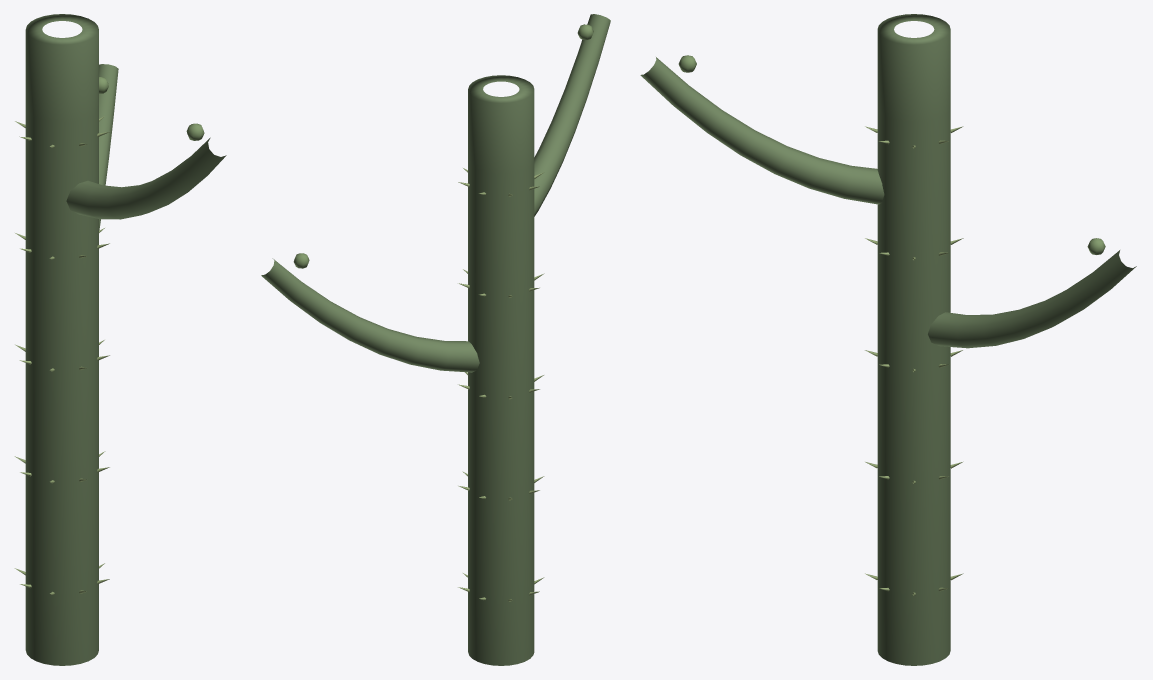
The model's file is cactus.glb.
3 views of the same model, side by side, from view 1: azimuth 30°, elevation 25°; view 2: azimuth 150°, elevation 25°; view 3: azimuth 270°, elevation 25° (orthographic). The views are drawn at different scales.
Visible parts, largest first — view 1: cactus; view 2: cactus; view 3: cactus.
Boxes of the visible parts, left/top/right/bottom form: cactus: left=14, top=14, right=226, bottom=665; cactus: left=261, top=14, right=610, bottom=665; cactus: left=640, top=14, right=1136, bottom=665.
Size of the model in its own units: 1.43 by 4.14 by 3.02.
